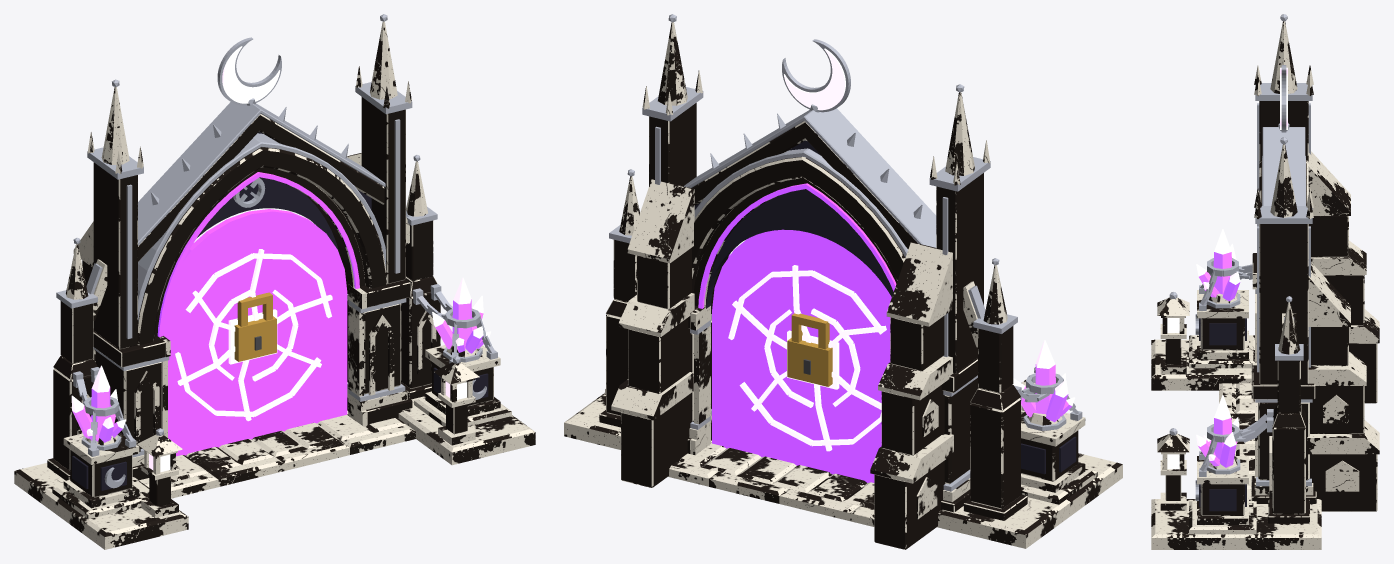
The model's file is PORTAO_ShadowGarden_08_PURCHASE_GATES_4a3879.fbx.
3 views of the same model, side by side, from view 1: azimuth 30°, elevation 25°; view 2: azimuth 150°, elevation 25°; view 3: azimuth 270°, elevation 25° (orthographic). The views are drawn at different scales.
Parts seen in each view (by area): view 1: GATE_ShadowGarden_Frame__Stone_GateSG_Obsidian, GATE_ShadowGarden_Barrier__P_Shadow_Glow, GATE_ShadowGarden_Frame__Metal_GateSG_Silver, GATE_ShadowGarden_Frame__Stone_GateSG_Slate, GATE_ShadowGarden_Frame__Stone_Wall_Dark, GATE_ShadowGarden_Frame__Stone_Wall_Light, GATE_ShadowGarden_Barrier__Energy_Core_ShadowGarden_Glow, GATE_ShadowGarden_Frame__P_Shadow_Stone, GATE_ShadowGarden_Glow__Crystal_Purple_Core, GATE_ShadowGarden_Glow__Crystal_Purple, GATE_ShadowGarden_Lock__Metal_Gold, GATE_ShadowGarden_Glow__P_Shadow_Glow; view 2: GATE_ShadowGarden_Frame__Stone_GateSG_Obsidian, GATE_ShadowGarden_Barrier__P_Shadow_Glow, GATE_ShadowGarden_Frame__Stone_GateSG_Slate, GATE_ShadowGarden_Frame__Metal_GateSG_Silver, GATE_ShadowGarden_Frame__Stone_Wall_Dark, GATE_ShadowGarden_Frame__P_Shadow_Stone, GATE_ShadowGarden_Barrier__Energy_Core_ShadowGarden_Glow, GATE_ShadowGarden_Frame__Stone_Wall_Light, GATE_ShadowGarden_Lock__Metal_Gold, GATE_ShadowGarden_Glow__Crystal_Purple_Core, GATE_ShadowGarden_Glow__P_Shadow_Glow, GATE_ShadowGarden_Glow__Crystal_Purple; view 3: GATE_ShadowGarden_Frame__Stone_GateSG_Obsidian, GATE_ShadowGarden_Frame__Stone_GateSG_Slate, GATE_ShadowGarden_Frame__Metal_GateSG_Silver, GATE_ShadowGarden_Frame__Stone_Wall_Dark, GATE_ShadowGarden_Frame__Stone_Wall_Light, GATE_ShadowGarden_Glow__Crystal_Purple, GATE_ShadowGarden_Frame__P_Shadow_Stone, GATE_ShadowGarden_Glow__Crystal_Purple_Core, GATE_ShadowGarden_Frame__Crystal_Purple_Core.
Boxes of the visible parts, x1,y1,x2,y2 form: GATE_ShadowGarden_Frame__Stone_GateSG_Obsidian: (53,21,500,517); GATE_ShadowGarden_Barrier__P_Shadow_Glow: (163,209,347,456); GATE_ShadowGarden_Frame__Metal_GateSG_Silver: (56,14,497,488); GATE_ShadowGarden_Frame__Stone_GateSG_Slate: (47,66,493,506); GATE_ShadowGarden_Frame__Stone_Wall_Dark: (14,396,535,549); GATE_ShadowGarden_Frame__Stone_Wall_Light: (52,397,511,519); GATE_ShadowGarden_Barrier__Energy_Core_ShadowGarden_Glow: (175,249,332,421); GATE_ShadowGarden_Frame__P_Shadow_Stone: (72,132,488,490); GATE_ShadowGarden_Glow__Crystal_Purple_Core: (71,46,490,436); GATE_ShadowGarden_Glow__Crystal_Purple: (72,299,483,442); GATE_ShadowGarden_Lock__Metal_Gold: (234,292,276,361); GATE_ShadowGarden_Glow__P_Shadow_Glow: (157,172,359,337); GATE_ShadowGarden_Frame__Stone_GateSG_Obsidian: (606,22,1085,549); GATE_ShadowGarden_Barrier__P_Shadow_Glow: (712,229,891,482); GATE_ShadowGarden_Frame__Stone_GateSG_Slate: (599,70,1078,520); GATE_ShadowGarden_Frame__Metal_GateSG_Silver: (609,14,1082,491); GATE_ShadowGarden_Frame__Stone_Wall_Dark: (564,393,1122,548); GATE_ShadowGarden_Frame__P_Shadow_Stone: (694,140,1076,474); GATE_ShadowGarden_Barrier__Energy_Core_ShadowGarden_Glow: (728,265,886,451); GATE_ShadowGarden_Frame__Stone_Wall_Light: (605,389,1097,509); GATE_ShadowGarden_Lock__Metal_Gold: (787,313,832,386); GATE_ShadowGarden_Glow__Crystal_Purple_Core: (784,48,1075,406); GATE_ShadowGarden_Glow__P_Shadow_Glow: (698,183,896,308); GATE_ShadowGarden_Glow__Crystal_Purple: (1021,364,1071,422); GATE_ShadowGarden_Frame__Stone_GateSG_Obsidian: (1157,21,1377,524); GATE_ShadowGarden_Frame__Stone_GateSG_Slate: (1162,65,1379,523); GATE_ShadowGarden_Frame__Metal_GateSG_Silver: (1169,14,1312,500); GATE_ShadowGarden_Frame__Stone_Wall_Dark: (1151,339,1321,549); GATE_ShadowGarden_Frame__Stone_Wall_Light: (1189,335,1256,534); GATE_ShadowGarden_Glow__Crystal_Purple: (1198,252,1240,467); GATE_ShadowGarden_Frame__P_Shadow_Stone: (1199,318,1246,511); GATE_ShadowGarden_Glow__Crystal_Purple_Core: (1196,67,1287,460); GATE_ShadowGarden_Frame__Crystal_Purple_Core: (1167,318,1179,469).
Bounding box in the file's own units: 36 × 32.5 × 17.55.
Materials: 9 (1 with a texture image).
